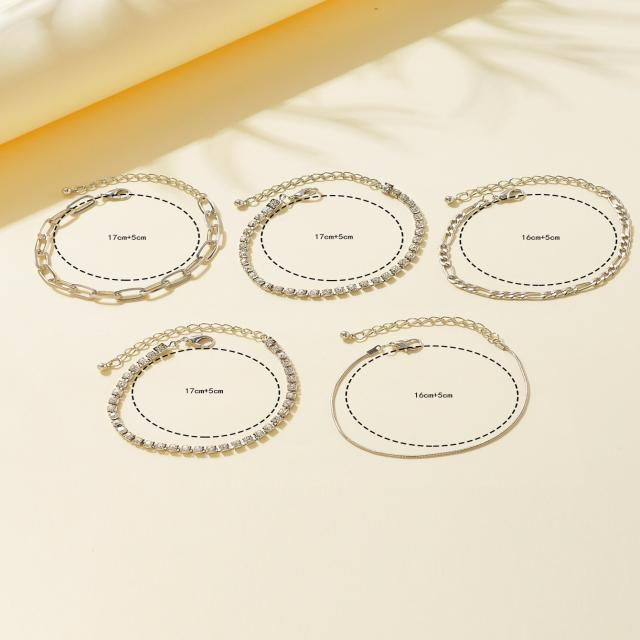bracelet: (0, 88, 241, 314), (222, 106, 434, 330), (88, 298, 316, 484), (422, 126, 640, 319), (314, 312, 571, 472)
